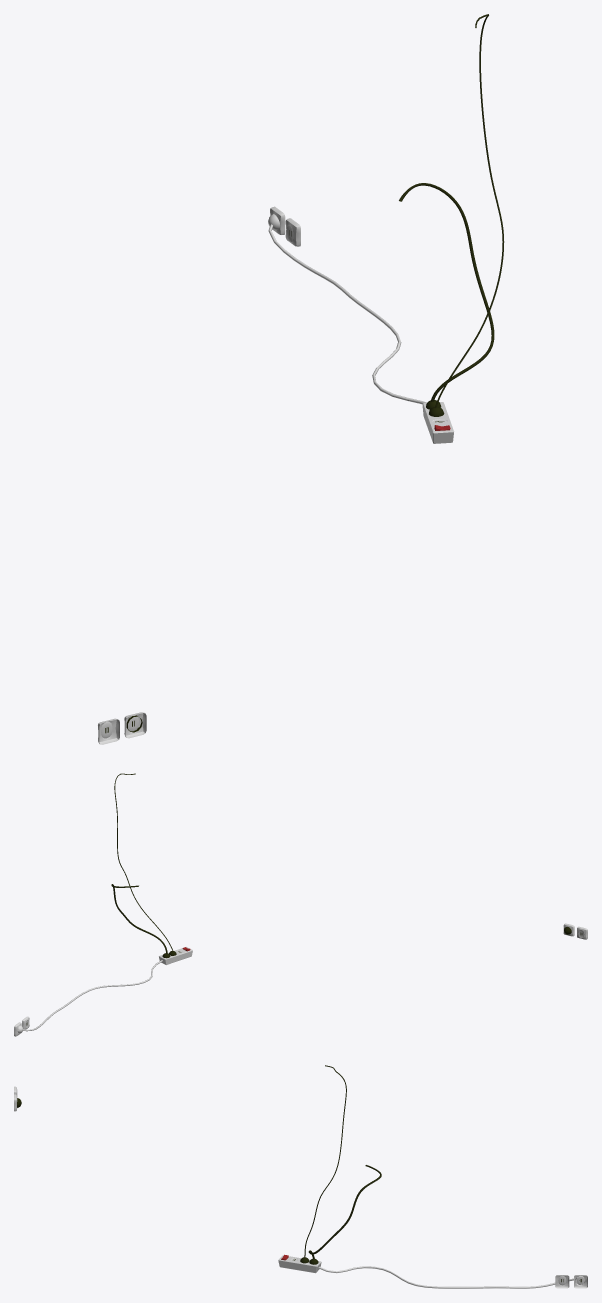
File: geo_cable.fbx
The picture shows the model from 3 angles, top to bottom: view 1: azimuth 30°, elevation 25°; view 2: azimuth 150°, elevation 25°; view 3: azimuth 270°, elevation 25°; orthographic projection. The views are drawn at different scales.
Visible parts, largest first — view 1: geo_multiprise, geo_cable_TV, geo_cable_lavalamp; view 2: geo_multiprise; view 3: geo_multiprise, geo_cable_lavalamp, geo_cable_TV.
Part boxes in pixels (box(x1,y1,x2,y2)): geo_multiprise: box(268, 214, 453, 443); geo_cable_TV: box(399, 183, 494, 409); geo_cable_lavalamp: box(429, 14, 504, 416); geo_multiprise: box(17, 947, 192, 1033); geo_multiprise: box(278, 1254, 585, 1288); geo_cable_lavalamp: box(300, 1065, 346, 1263); geo_cable_TV: box(308, 1165, 381, 1264).
Bounding box in the file's own units: 451 × 243 × 570.
